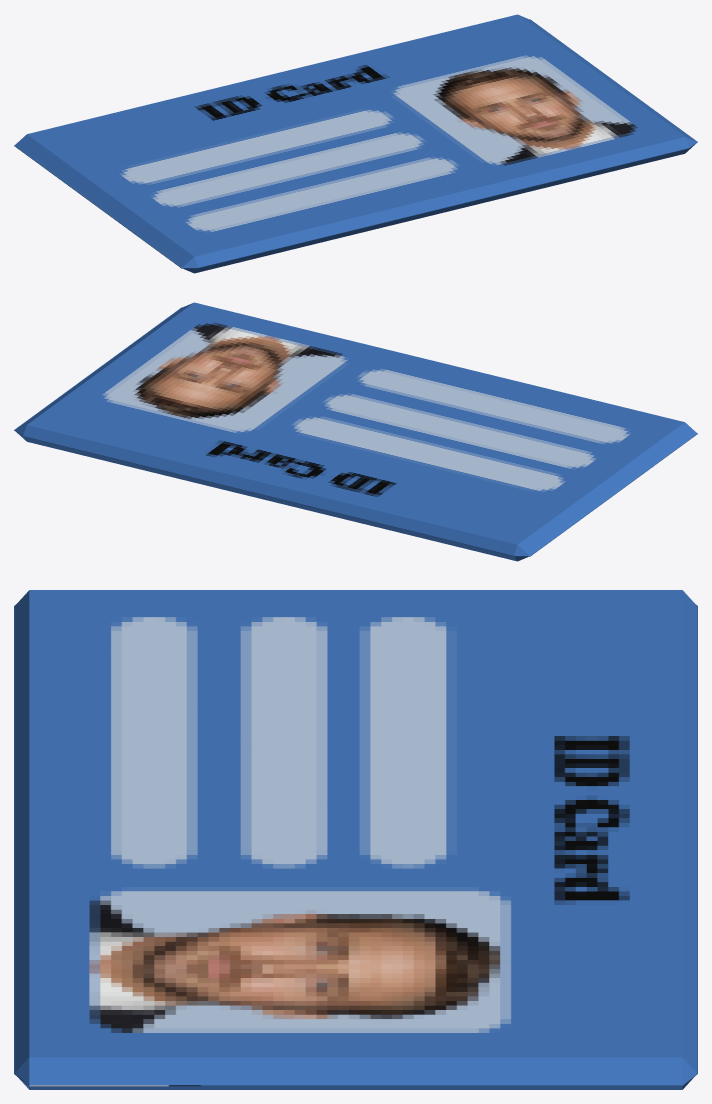
Rendered from id card.gltf.
3 renders of one model, top to bottom at view 1: azimuth 30°, elevation 25°; view 2: azimuth 150°, elevation 25°; view 3: azimuth 270°, elevation 25°, orthographic. The views are drawn at different scales.
Visible parts, largest first — view 1: Cube; view 2: Cube; view 3: Cube.
Boxes of the visible parts, x1,y1,x2,y2 form: Cube: [14, 14, 697, 273]; Cube: [14, 302, 697, 561]; Cube: [14, 590, 697, 1089].
Size of the model in its own units: 8.06 by 0.2499 by 4.74.
Materials: 1 (1 with a texture image).
